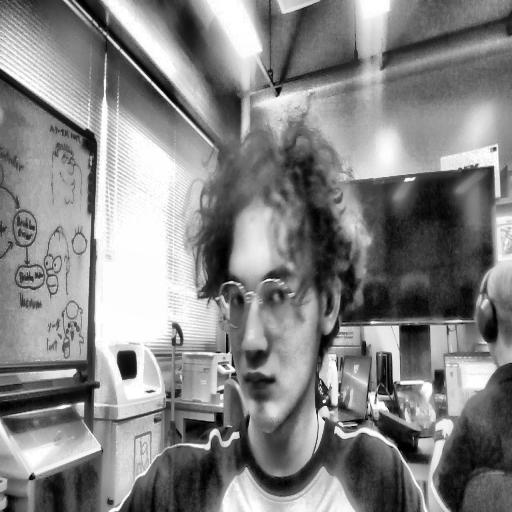Daifuku: (183, 136, 363, 431)
Not Daifuku: (472, 256, 512, 370)
